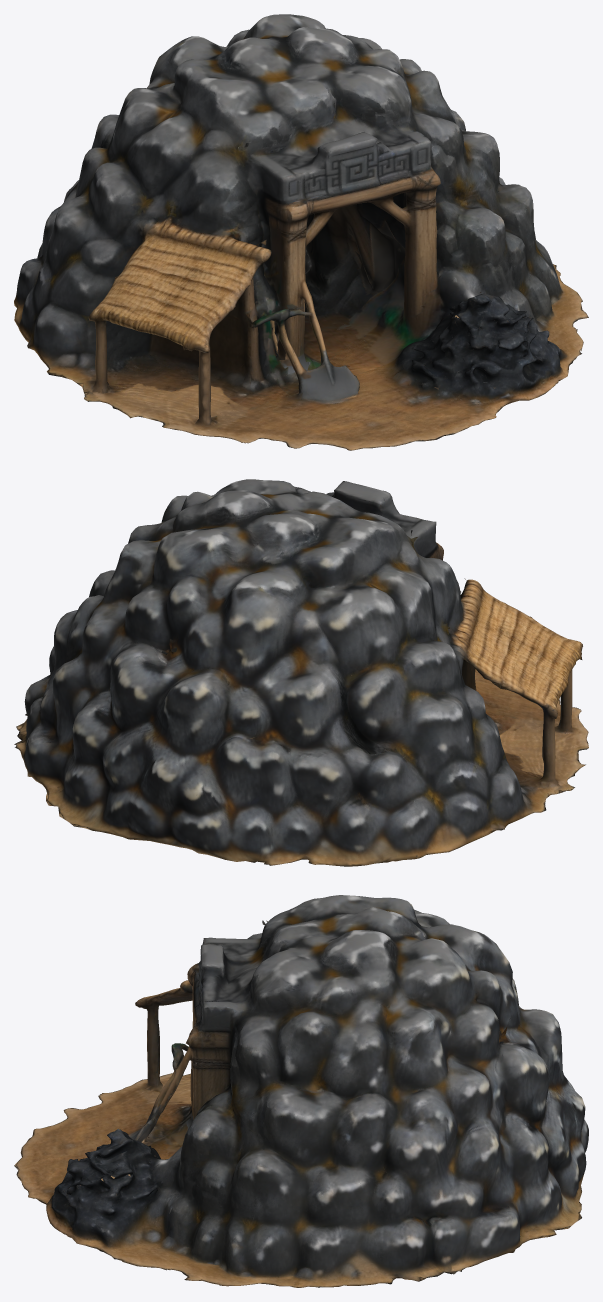
The model's file is Mine (Mesoamerica).fbx.
3 renders of one model, top to bottom at view 1: azimuth 30°, elevation 25°; view 2: azimuth 150°, elevation 25°; view 3: azimuth 270°, elevation 25°, orthographic. The views are drawn at different scales.
Visible parts, largest first — view 1: Mesh_0; view 2: Mesh_0; view 3: Mesh_0.
Boxes of the visible parts, x1=… form: Mesh_0: x1=14, y1=14, x2=588, y2=450; Mesh_0: x1=14, y1=479, x2=588, y2=866; Mesh_0: x1=14, y1=895, x2=588, y2=1287.
Size of the model in its own units: 195 by 99.62 by 200.
1 material, 1 textured.
